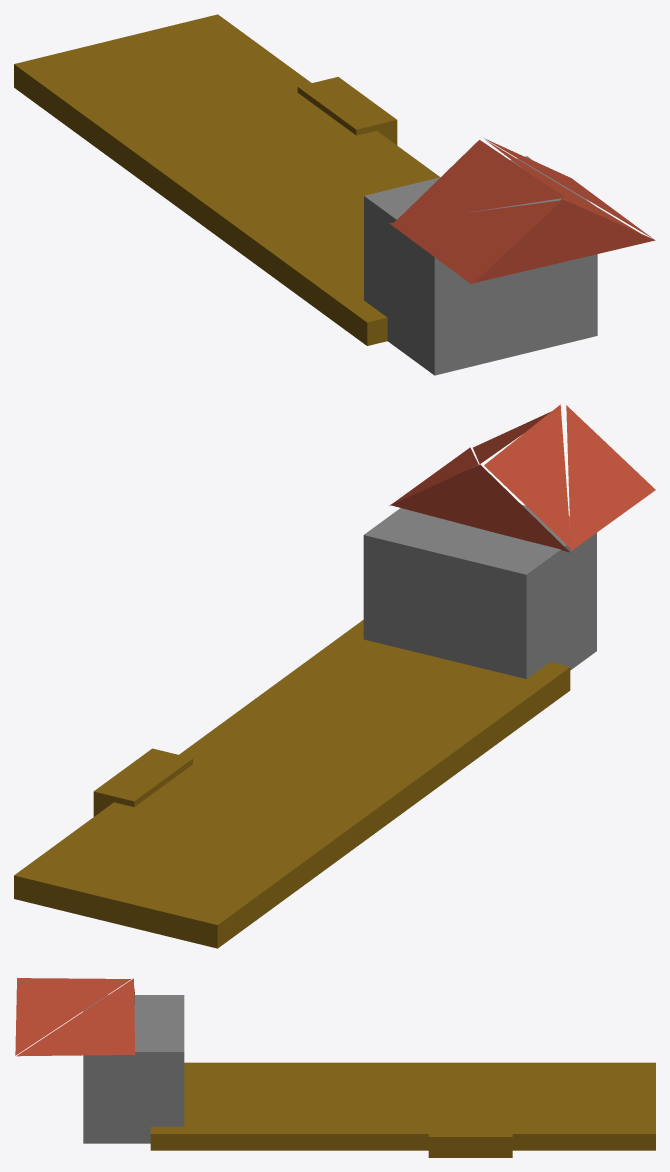
The model's file is dock_t2.glb.
The picture shows the model from 3 angles, top to bottom: view 1: azimuth 30°, elevation 25°; view 2: azimuth 150°, elevation 25°; view 3: azimuth 270°, elevation 25°; orthographic projection. The views are drawn at different scales.
Parts seen in each view (by area): view 1: building-dock; view 2: building-dock; view 3: building-dock.
Boxes of the visible parts, x1,y1,x2,y2 form: building-dock: (14, 14, 655, 375); building-dock: (14, 404, 655, 948); building-dock: (15, 978, 655, 1157).
Bounding box in the file's own units: 0.0799 × 0.0654 × 0.2767.
